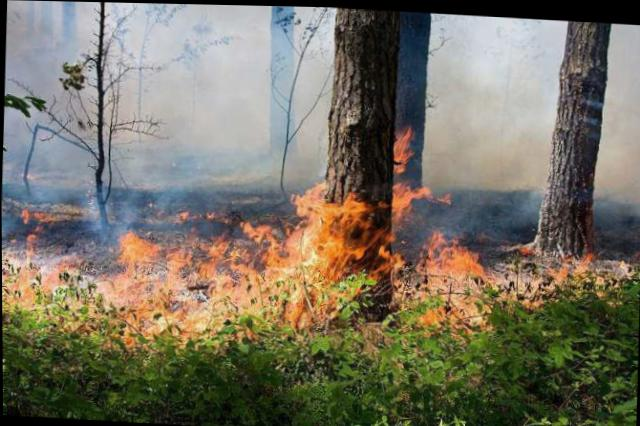fire: (4, 171, 621, 367)
